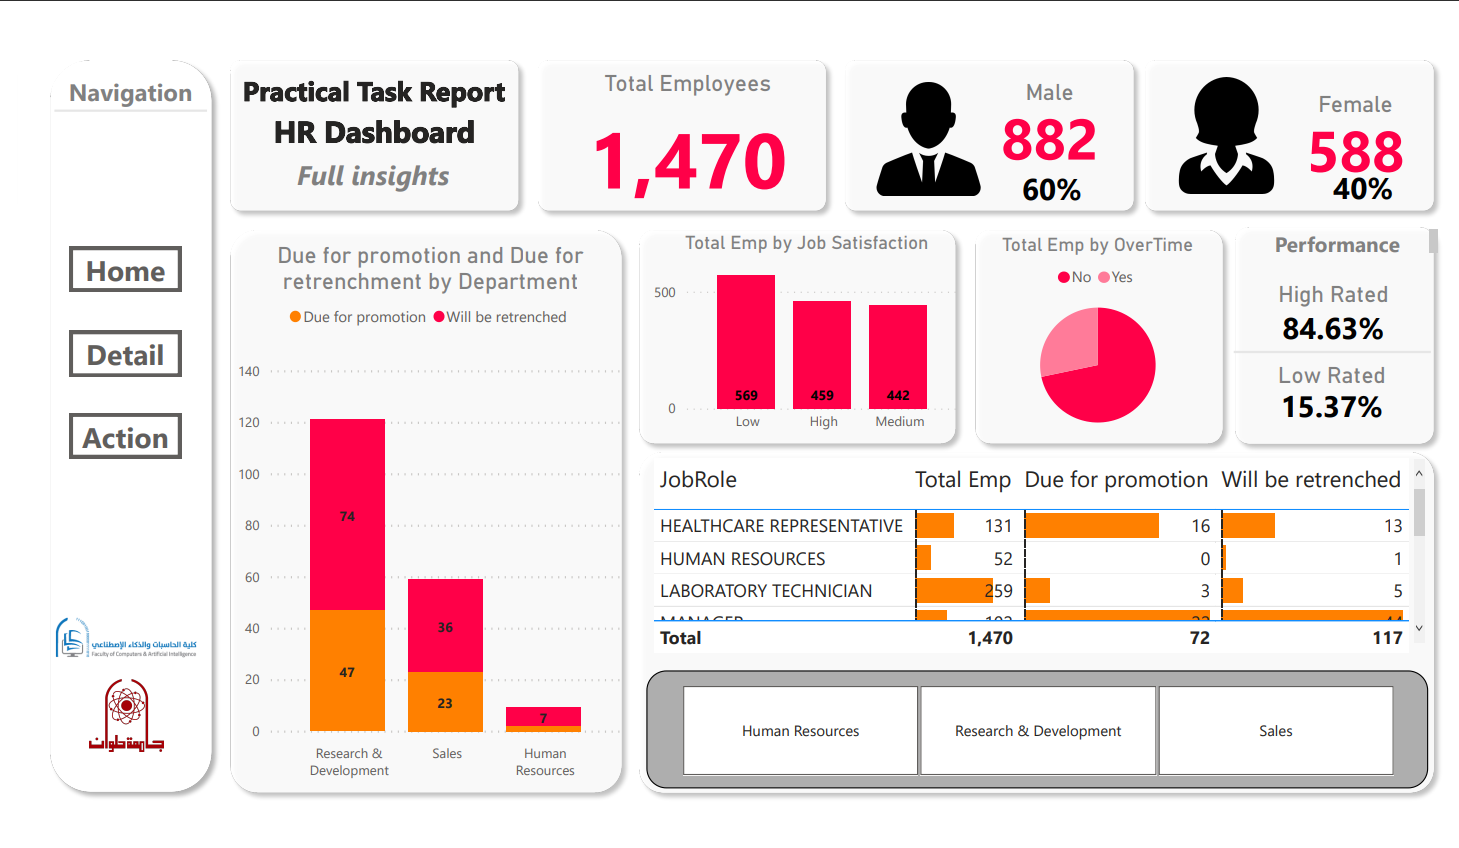

The dashboard page shown, as its layout file describes it:
{"tool":"powerbi","page":{"name":"Task Page 2","canvas":[1280,720],"ordinal":1},"visuals":[{"type":"shape","box":[20.6,22,162.1,674.3],"z":0},{"type":"shape","box":[182.1,21.4,276.1,152.3],"z":1000},{"type":"shape","box":[458.2,21.4,276.1,152.3],"z":2000},{"type":"shape","box":[734.3,21.4,276.1,152.3],"z":3000},{"type":"shape","box":[1003.9,21.4,276.1,152.3],"z":4000},{"type":"textbox","box":[170.2,70.2,299.9,54.7],"z":5000},{"type":"textbox","box":[186.8,111.9,265.4,54.7],"z":6000},{"type":"card","title":"Total Employees","fields":{"Values":["All Measures.Total Emp"]},"box":[470.1,38.1,264.2,128.5],"z":7000},{"type":"card","title":"Male","fields":{"Values":["All Measures.Male"]},"box":[848.5,46.4,155.9,78.5],"z":8000},{"type":"card","title":"Female","fields":{"Values":["All Measures.Female"]},"box":[1124.1,58.3,155.9,78.5],"z":9000},{"type":"image","box":[761.7,45.2,110.7,110.7],"z":10000},{"type":"image","box":[1028.2,38.1,114.2,116.6],"z":11000},{"type":"card","title":"Male","fields":{"Values":["All Measures.% Female"]},"box":[1142.5,105.9,130.9,78.5],"z":12000},{"type":"card","title":"Male","fields":{"Values":["All Measures.% Male"]},"box":[887.8,107.1,83.3,78.5],"z":13000},{"type":"shape","box":[182.1,173.8,367.7,522.4],"z":14000},{"type":"columnChart","title":"Due for promotion and Due for retrenchment by Department","fields":{"Category":["Analytics Data.Department"],"Y":["All Measures.Due for promotion","All Measures.Will be retrenched"]},"box":[192.8,194,357,490.3],"z":15000},{"type":"shape","box":[549.8,173.8,301.1,209.5],"z":16000},{"type":"shape","box":[850.9,173.8,239.2,209.5],"z":17000},{"type":"shape","box":[1084.8,171.4,195.2,211.8],"z":18000},{"type":"columnChart","fields":{"Category":["Analytics Data.Job Satisfaction"],"Y":["All Measures.Total Emp"]},"box":[565.3,184.5,285.6,189.2],"z":19000},{"type":"pieChart","fields":{"Category":["Analytics Data.OverTime"],"Y":["All Measures.Total Emp"]},"box":[864,185.7,211.8,188],"z":20000},{"type":"shape","box":[549.3,373.7,730.7,322.5],"z":21000},{"type":"tableEx","fields":{"Values":["Analytics Data.JobRole","All Measures.Total Emp","All Measures.Due for promotion","All Measures.Will be retrenched"]},"box":[565.3,383.2,702.1,184.5],"z":22000},{"type":"card","title":"High Rated","fields":{"Values":["All Measures.% High Rated"]},"box":[1086.5,228.5,190.4,63.1],"z":23000},{"type":"card","title":"Low Rated","fields":{"Values":["All Measures.% Low Rated"]},"box":[1085.4,301.1,190.4,59.5],"z":24000},{"type":"shape","box":[1092.5,279.7,177.3,23.8],"z":25000},{"type":"textbox","box":[1096.7,177.3,183.3,33.3],"z":26000},{"type":"textbox","box":[33.3,38.1,136.9,39.3],"z":27000},{"type":"shape","box":[33,65.9,137.3,19.2],"z":28000},{"type":"actionButton","box":[46.7,197.8,100.3,39.8],"z":29000},{"type":"actionButton","box":[46.7,347.5,100.3,39.8],"z":30000},{"type":"actionButton","box":[46.7,273.3,100.3,41.2],"z":31000},{"type":"textbox","box":[176.1,35.7,288,45.2],"z":32000},{"type":"slicer","fields":{"Values":["Analytics Data.Department"]},"box":[564.1,578.4,702.1,105.9],"z":33000},{"type":"image","box":[59.1,578.2,76.9,81],"z":34000},{"type":"image","box":[28.8,465.6,137.3,166.2],"z":35000}]}

Visuals, with their boxes on the page's 1280x720 design canvas (x1, y1, x2, y2). These are canvas units, not pixel positions in the 1459x848 screenshot, which may show the page scaled, cropped or inside an application window:
shape: locate(21, 22, 183, 696)
shape: locate(182, 21, 458, 174)
shape: locate(458, 21, 734, 174)
shape: locate(734, 21, 1010, 174)
shape: locate(1004, 21, 1280, 174)
textbox: locate(170, 70, 470, 125)
textbox: locate(187, 112, 452, 167)
"Total Employees" card: locate(470, 38, 734, 167)
"Male" card: locate(848, 46, 1004, 125)
"Female" card: locate(1124, 58, 1280, 137)
image: locate(762, 45, 872, 156)
image: locate(1028, 38, 1142, 155)
"Male" card: locate(1142, 106, 1273, 184)
"Male" card: locate(888, 107, 971, 186)
shape: locate(182, 174, 550, 696)
"Due for promotion and Due for retrenchment by Department" columnChart: locate(193, 194, 550, 684)
shape: locate(550, 174, 851, 383)
shape: locate(851, 174, 1090, 383)
shape: locate(1085, 171, 1280, 383)
columnChart - Analytics Data.Job Satisfaction x All Measures.Total Emp: locate(565, 184, 851, 374)
pieChart - Analytics Data.OverTime x All Measures.Total Emp: locate(864, 186, 1076, 374)
shape: locate(549, 374, 1280, 696)
tableEx - Analytics Data.JobRole x All Measures.Total Emp: locate(565, 383, 1267, 568)
"High Rated" card: locate(1086, 228, 1277, 292)
"Low Rated" card: locate(1085, 301, 1276, 361)
shape: locate(1092, 280, 1270, 304)
textbox: locate(1097, 177, 1280, 211)
textbox: locate(33, 38, 170, 77)
shape: locate(33, 66, 170, 85)
actionButton: locate(47, 198, 147, 238)
actionButton: locate(47, 348, 147, 387)
actionButton: locate(47, 273, 147, 314)
textbox: locate(176, 36, 464, 81)
slicer - Analytics Data.Department: locate(564, 578, 1266, 684)
image: locate(59, 578, 136, 659)
image: locate(29, 466, 166, 632)
